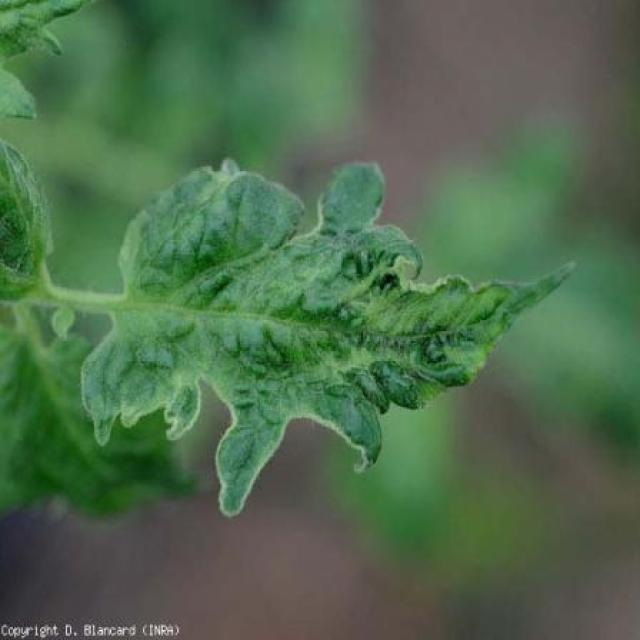Mosaic Virus: (78, 160, 583, 523)
